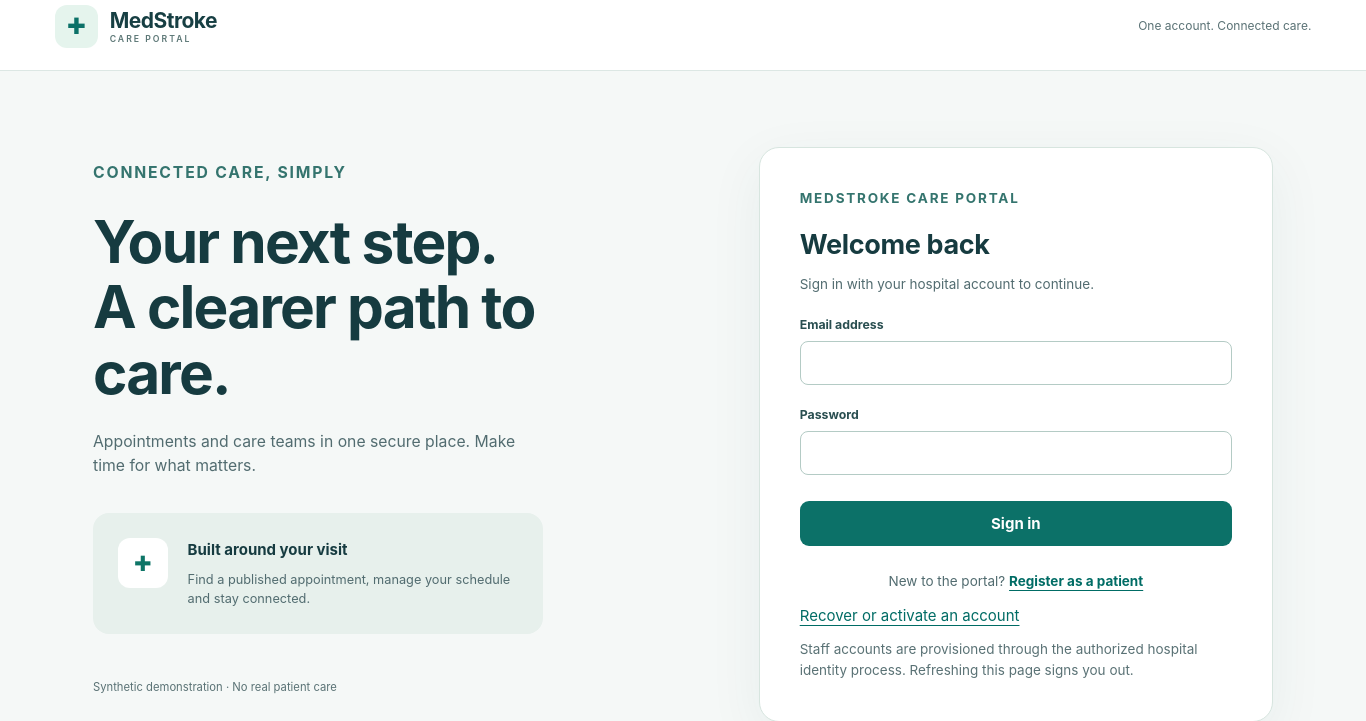
Scenario: signs in and displays real empty data states with accessible navigation
Type "synthetic@example.test" into the field labelled "Email address". click: x=1016, y=363
box: [800,341,1232,385]
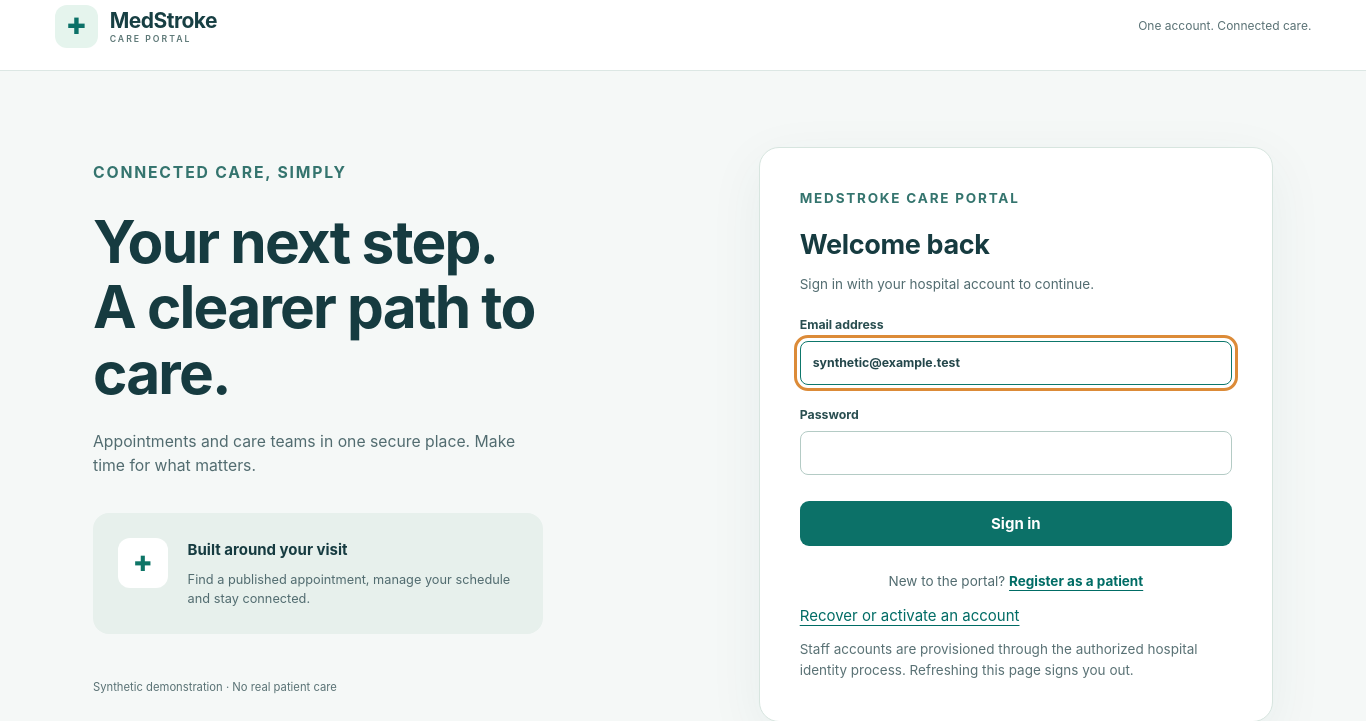
Type "Synthetic-password" into the password field labelled "Password". click: x=1016, y=453
box: [800,431,1232,475]
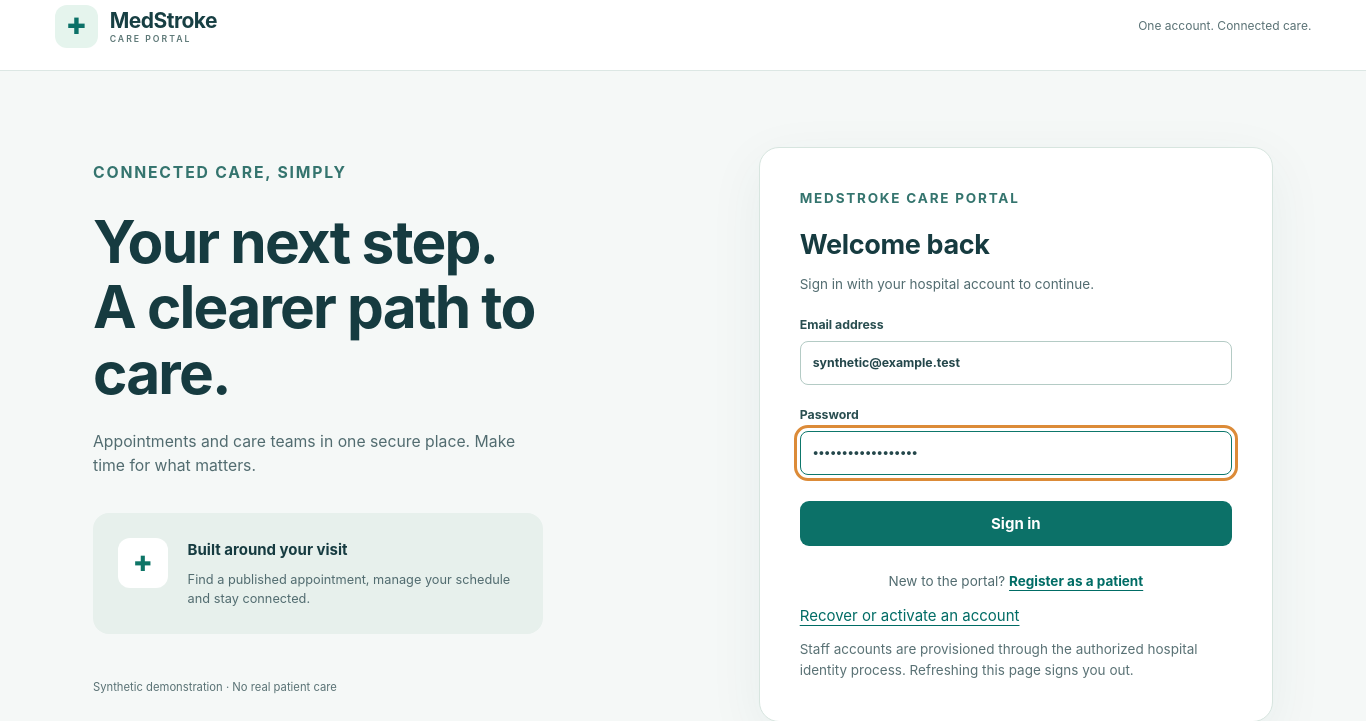
Click the button "Sign in". click: x=1016, y=524
box: [800,501,1232,546]
(page scrolled)
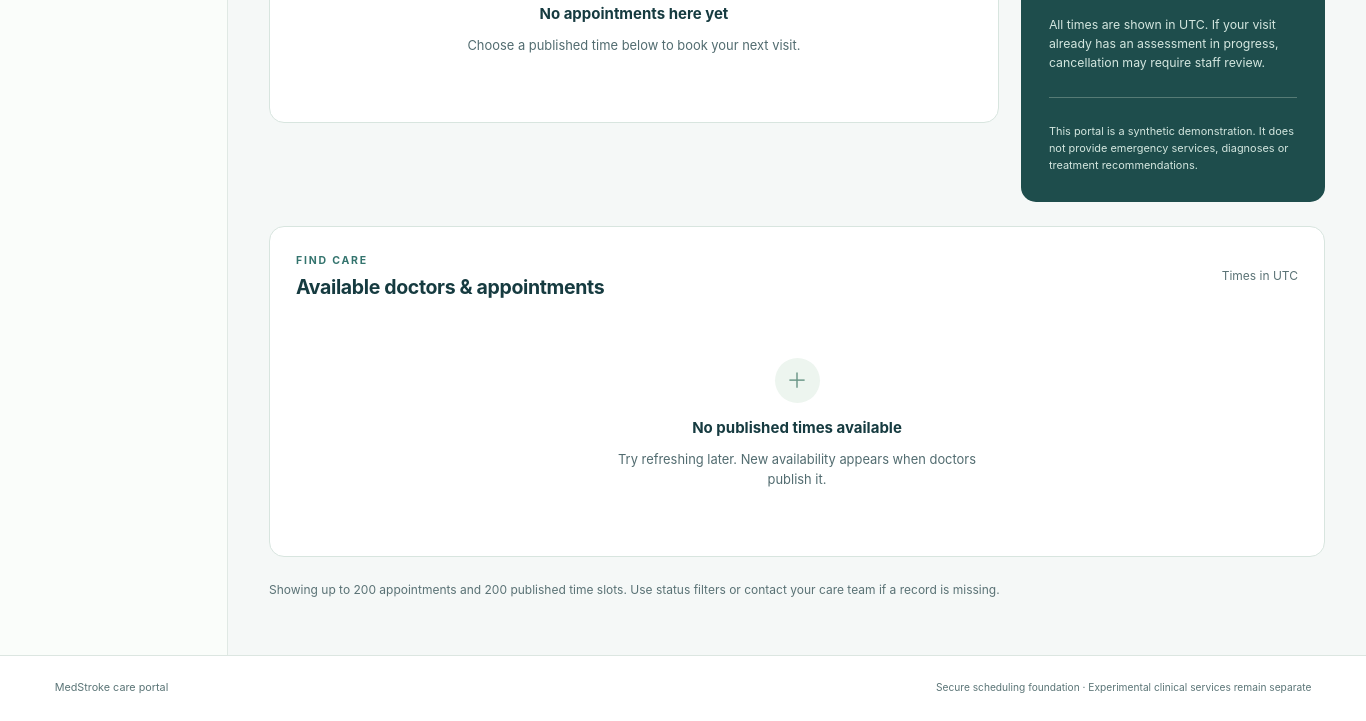
Now the heading "No appointments here yet" is shown, box [540,4,728,23]
Now the heading "No published times available" is shown, box [692,418,902,438]
